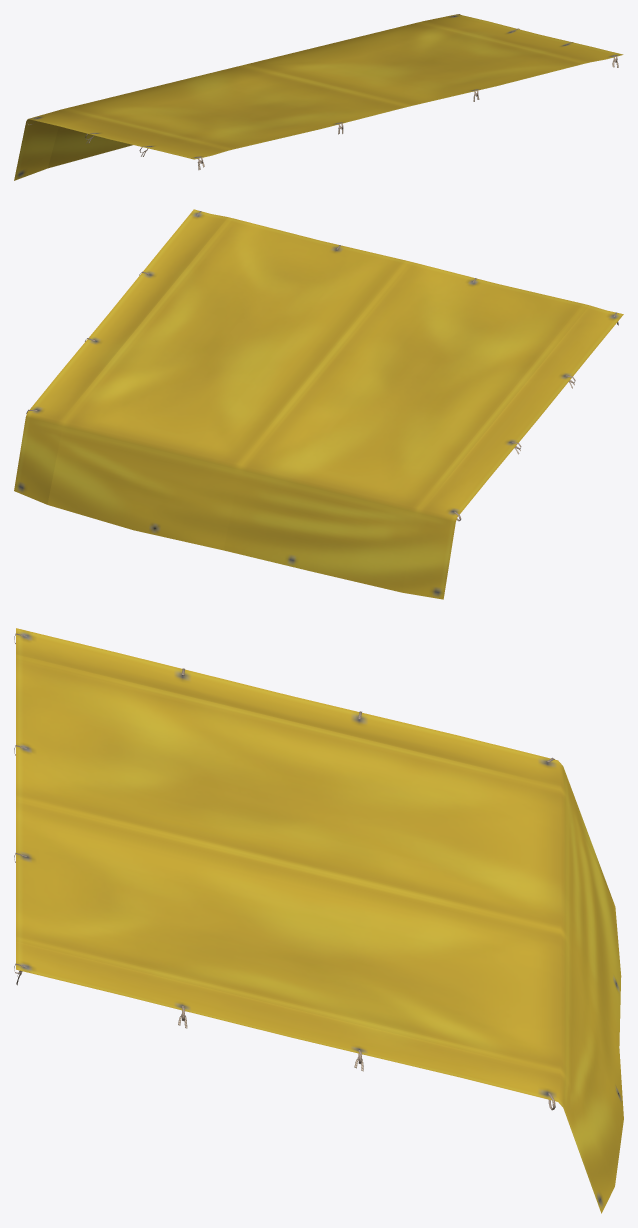
File: jsf_Ceiling_s03_c05_t02.fbx
3 renders of one model, top to bottom at view 1: azimuth 30°, elevation 25°; view 2: azimuth 150°, elevation 25°; view 3: azimuth 270°, elevation 25°, orthographic. The views are drawn at different scales.
Parts seen in each view (by area): view 1: jsf_Ceiling_s03_c05_t02; view 2: jsf_Ceiling_s03_c05_t02; view 3: jsf_Ceiling_s03_c05_t02.
Part boxes in pixels (bbox=[...]): jsf_Ceiling_s03_c05_t02: bbox=[14, 14, 623, 180]; jsf_Ceiling_s03_c05_t02: bbox=[14, 209, 623, 599]; jsf_Ceiling_s03_c05_t02: bbox=[14, 628, 623, 1213].
Bounding box in the file's own units: 315 × 106 × 234.
